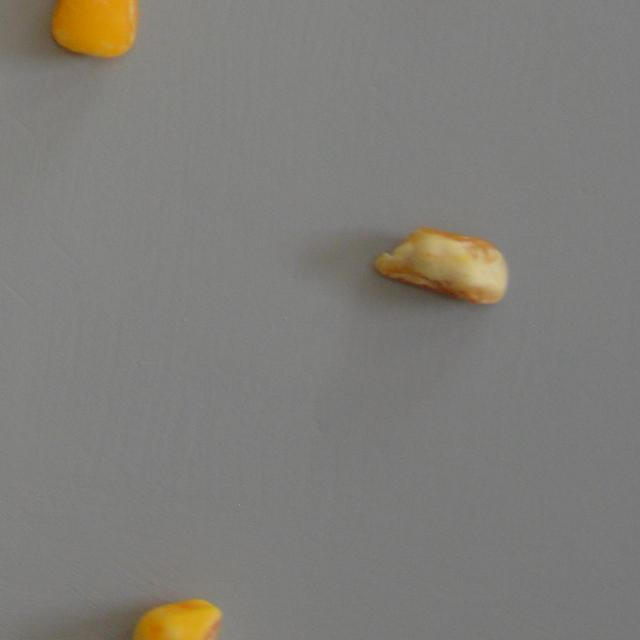dañado: (370, 224, 508, 304)
pelicula: (48, 0, 140, 60)
